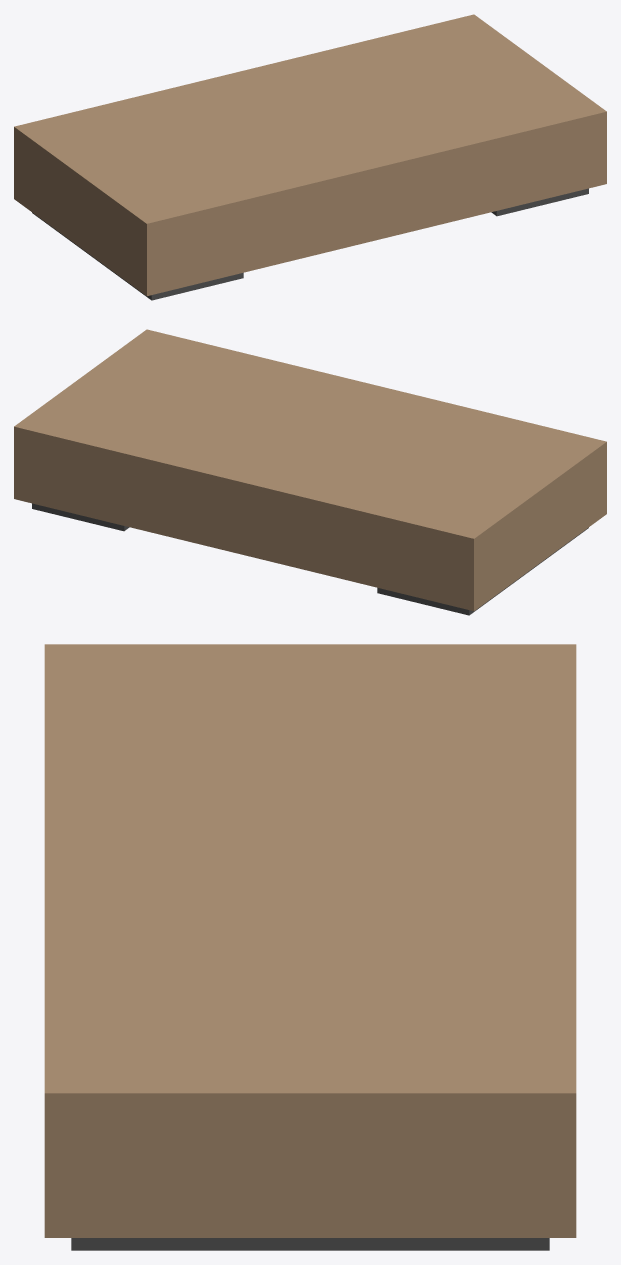
Rendered from floating_dock.glb.
3 renders of one model, top to bottom at view 1: azimuth 30°, elevation 25°; view 2: azimuth 150°, elevation 25°; view 3: azimuth 270°, elevation 25°, orthographic. The views are drawn at different scales.
Parts seen in each view (by area): view 1: dock, float1, float2; view 2: dock, float1, float2; view 3: dock, float2.
Part boxes in pixels (x1,y1,x2,y2): dock: [14, 14, 606, 295]; float1: [32, 212, 243, 300]; float2: [491, 188, 588, 216]; dock: [14, 329, 606, 610]; float1: [377, 527, 588, 615]; float2: [32, 503, 129, 531]; dock: [44, 644, 576, 1237]; float2: [71, 1238, 549, 1250].
Size of the model in its own units: 4 by 0.701 by 2.
